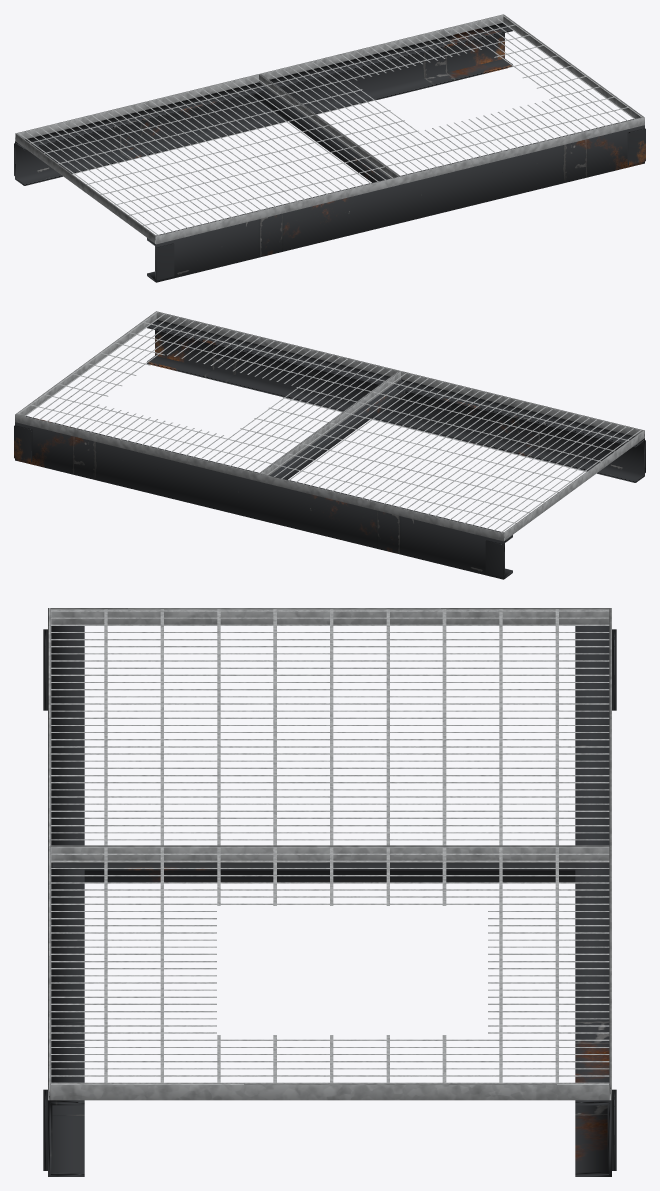
The model's file is SM_IK_Catwalk_200_Damaged_LOD2.fbx.
3 renders of one model, top to bottom at view 1: azimuth 30°, elevation 25°; view 2: azimuth 150°, elevation 25°; view 3: azimuth 270°, elevation 25°, orthographic. The views are drawn at different scales.
Visible parts, largest first — view 1: SM_IK_Catwalk_200_Damaged_LOD2; view 2: SM_IK_Catwalk_200_Damaged_LOD2; view 3: SM_IK_Catwalk_200_Damaged_LOD2.
Boxes of the visible parts, box(x1,y1,x2,y2) form: SM_IK_Catwalk_200_Damaged_LOD2: box(14, 14, 645, 282); SM_IK_Catwalk_200_Damaged_LOD2: box(14, 311, 645, 579); SM_IK_Catwalk_200_Damaged_LOD2: box(43, 608, 616, 1176).
Size of the model in its own units: 200 by 102 by 18.
